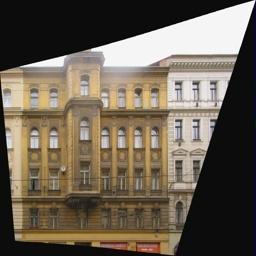building: (16, 46, 168, 242)
